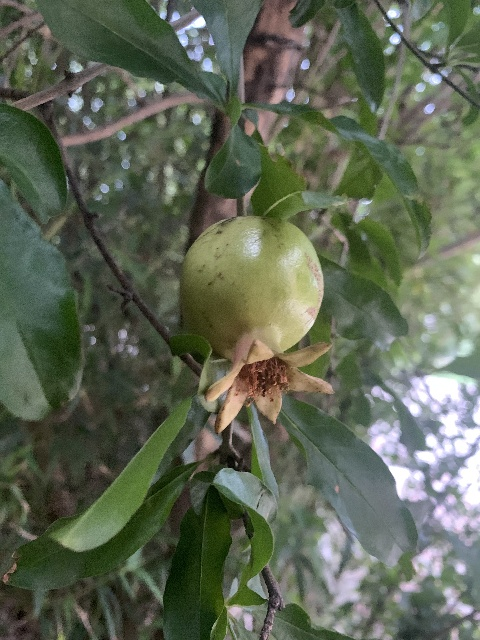mid-growth: (179, 215, 336, 436)
